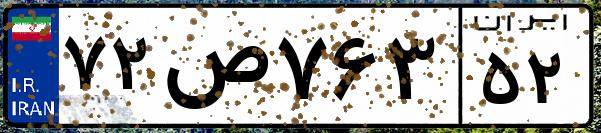2: (525, 38, 570, 115), (110, 28, 158, 98)
3: (385, 28, 445, 110)
5: (475, 38, 525, 113)
6: (330, 28, 385, 110)
7: (270, 28, 330, 110), (57, 26, 110, 100)
ص: (158, 20, 270, 120)
